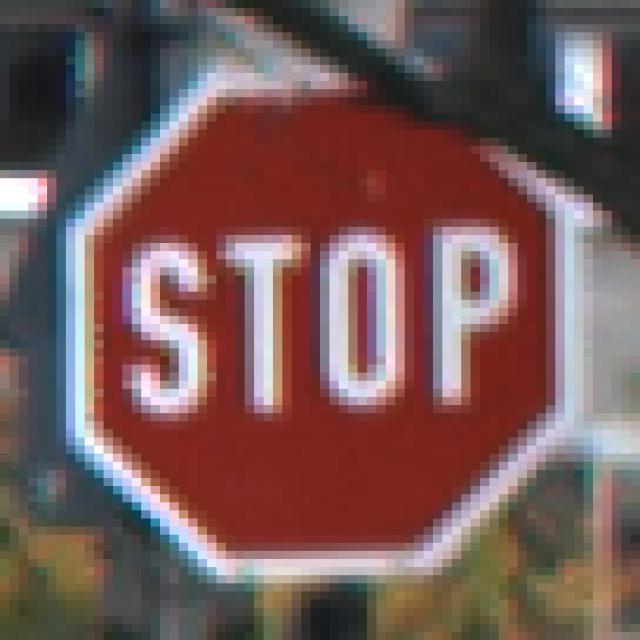STOP: (58, 58, 585, 584)
